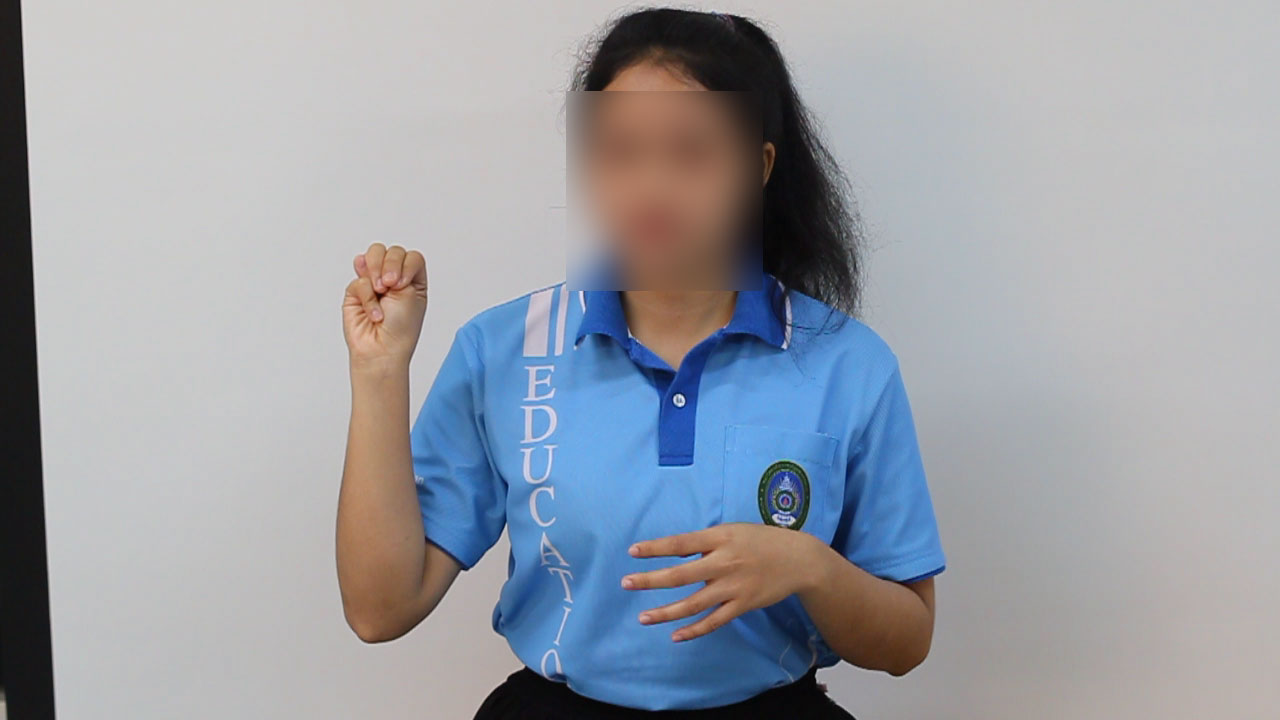mor: (331, 219, 436, 380)
